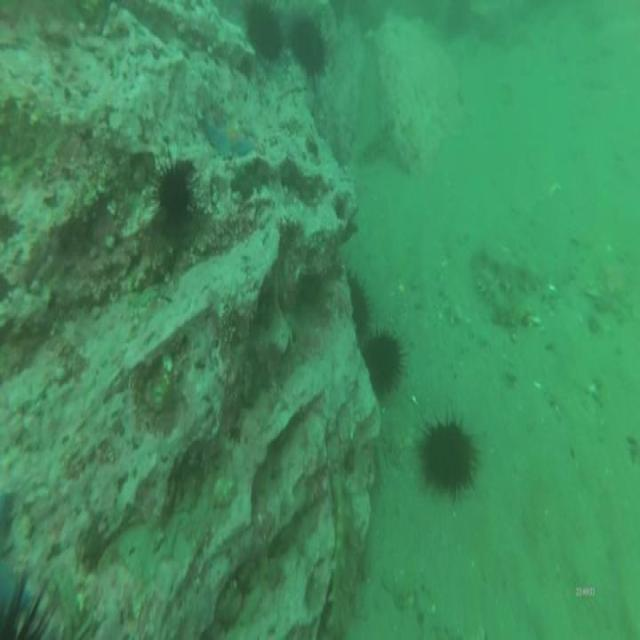echinus: (412, 403, 482, 502), (0, 553, 69, 640), (147, 147, 201, 234), (359, 327, 407, 401), (240, 0, 287, 70), (286, 11, 331, 84), (344, 265, 375, 340), (349, 0, 388, 36), (442, 0, 473, 44)
holothurian: (476, 231, 550, 300), (470, 256, 522, 335)
starfish: (203, 119, 260, 162)
